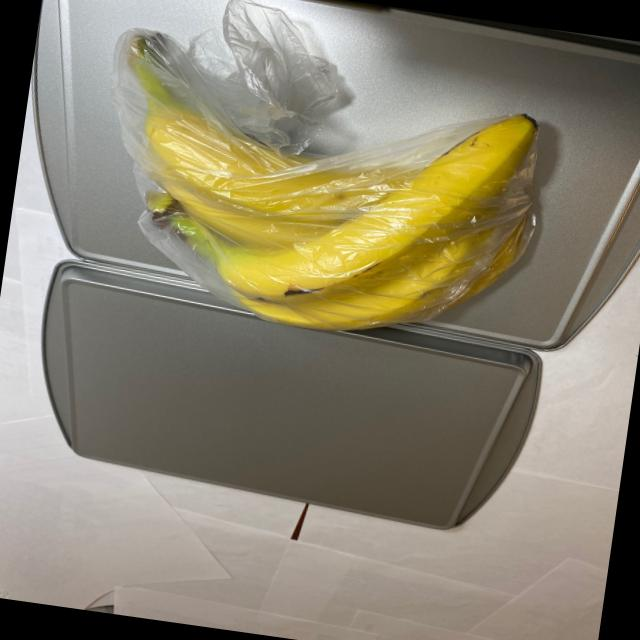banana: (62, 25, 564, 362)
